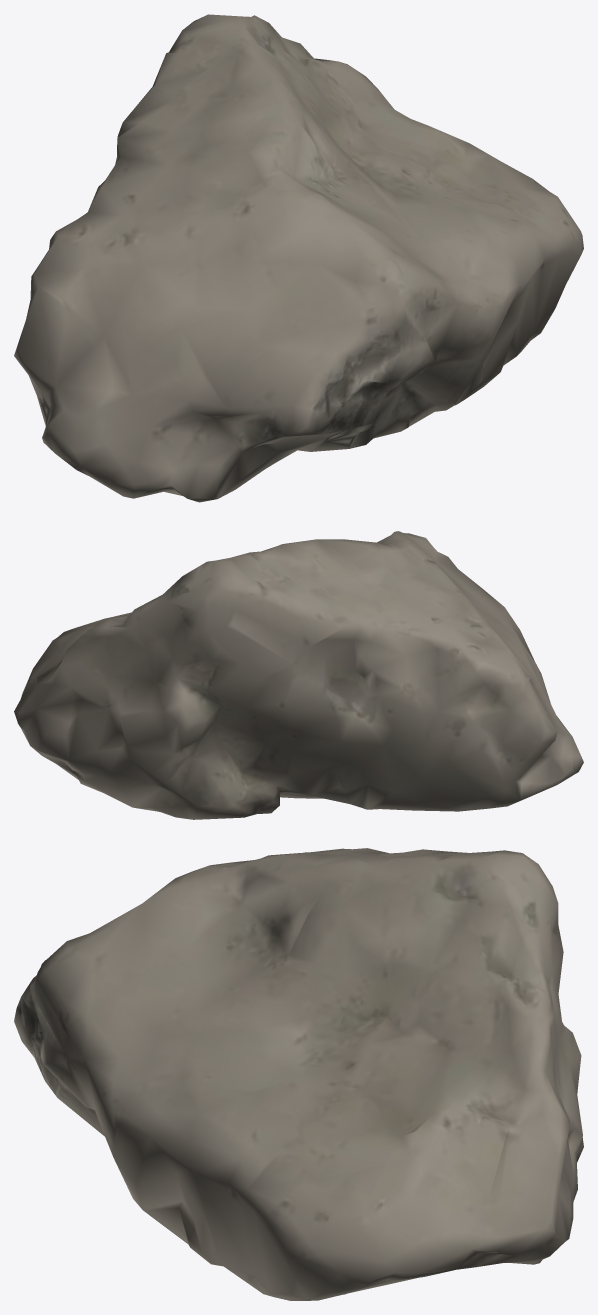
Rendered from boulder.glb.
3 views of the same model, one above another, from view 1: azimuth 30°, elevation 25°; view 2: azimuth 150°, elevation 25°; view 3: azimuth 270°, elevation 25° (orthographic). The views are drawn at different scales.
Visible parts, largest first — view 1: moon_rock_03_LOD0; view 2: moon_rock_03_LOD0; view 3: moon_rock_03_LOD0.
Part boxes in pixels (x1,y1,x2,y2): moon_rock_03_LOD0: (14,14,583,502); moon_rock_03_LOD0: (14,531,583,819); moon_rock_03_LOD0: (14,848,583,1300).
Size of the model in its own units: 0.112 by 0.0582 by 0.0861.
1 material, 1 textured.
